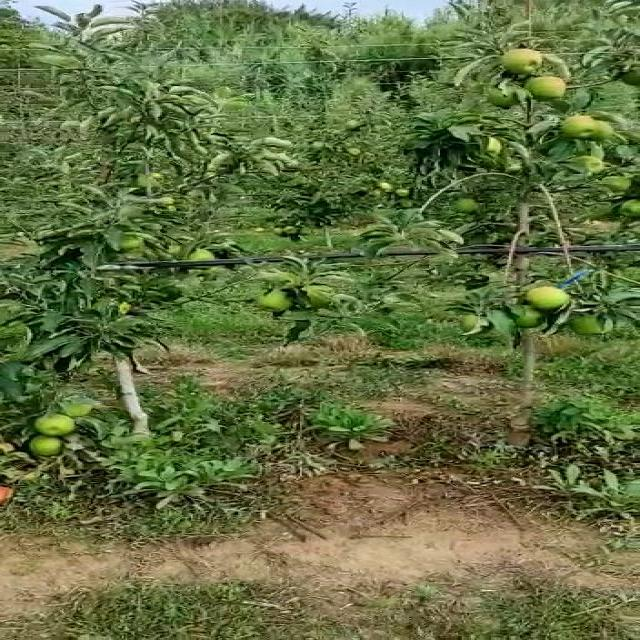100-_ripeness: (522, 72, 569, 101), (500, 47, 544, 76), (29, 413, 78, 435), (527, 285, 571, 309), (509, 304, 553, 328), (572, 312, 614, 337), (562, 113, 600, 140), (60, 389, 93, 420), (491, 84, 533, 107), (255, 290, 298, 312), (460, 310, 496, 336), (29, 430, 64, 456), (173, 248, 216, 268), (566, 156, 606, 176), (116, 233, 149, 253), (474, 138, 506, 153), (458, 196, 484, 214), (605, 178, 633, 193), (618, 199, 640, 214)
